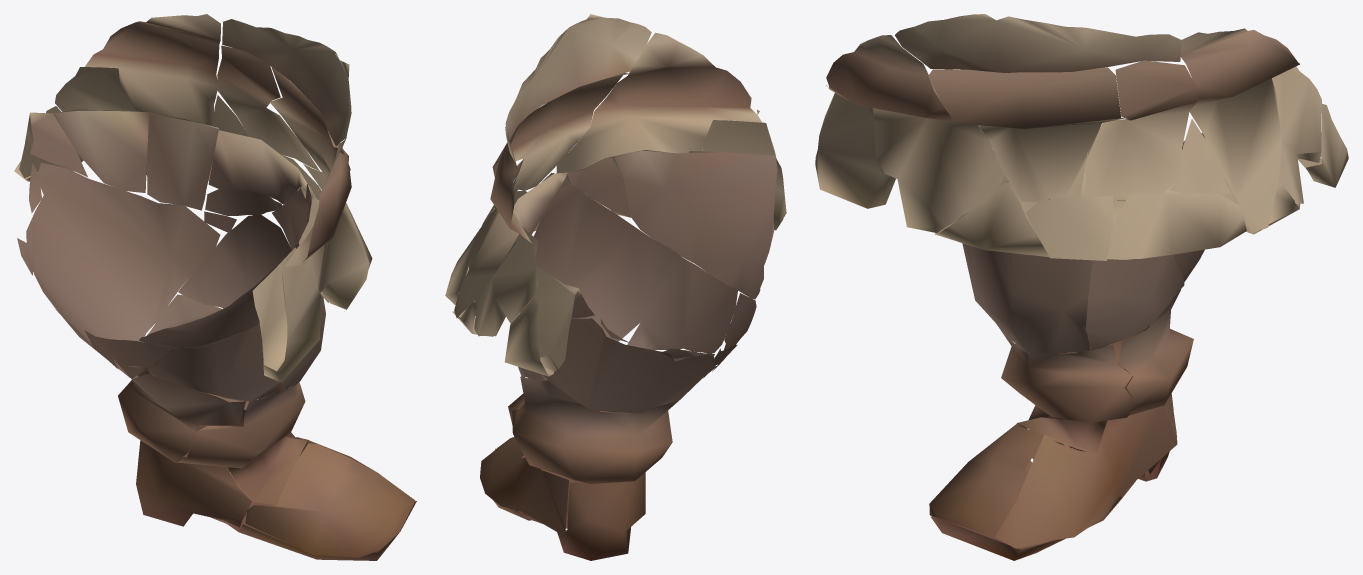
File: villager-legL-vc.glb
The picture shows the model from 3 angles, left to right: view 1: azimuth 30°, elevation 25°; view 2: azimuth 150°, elevation 25°; view 3: azimuth 270°, elevation 25°; orthographic projection. The views are drawn at different scales.
Parts seen in each view (by area): view 1: villager_legL.001; view 2: villager_legL.001; view 3: villager_legL.001.
Boxes of the visible parts, x1=… form: villager_legL.001: x1=14, y1=14, x2=416, y2=560; villager_legL.001: x1=445, y1=14, x2=786, y2=560; villager_legL.001: x1=815, y1=14, x2=1348, y2=560.
Bounding box in the file's own units: 0.2438 × 0.3777 × 0.3587.
